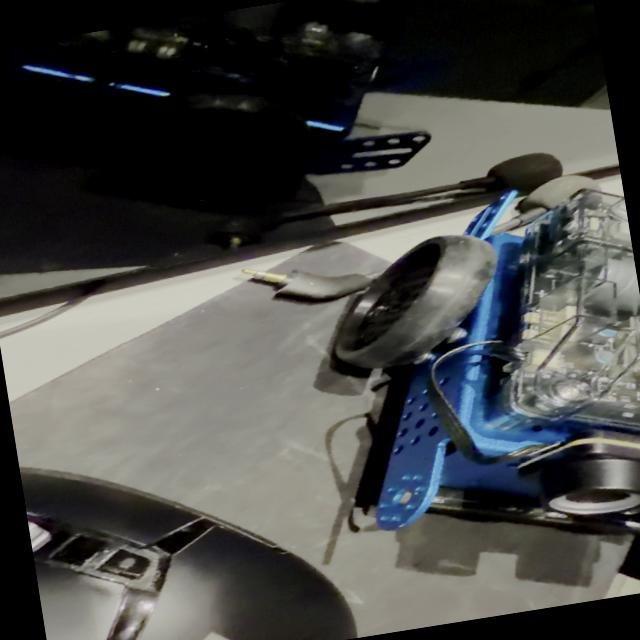mbot-detection: (306, 178, 640, 595)
